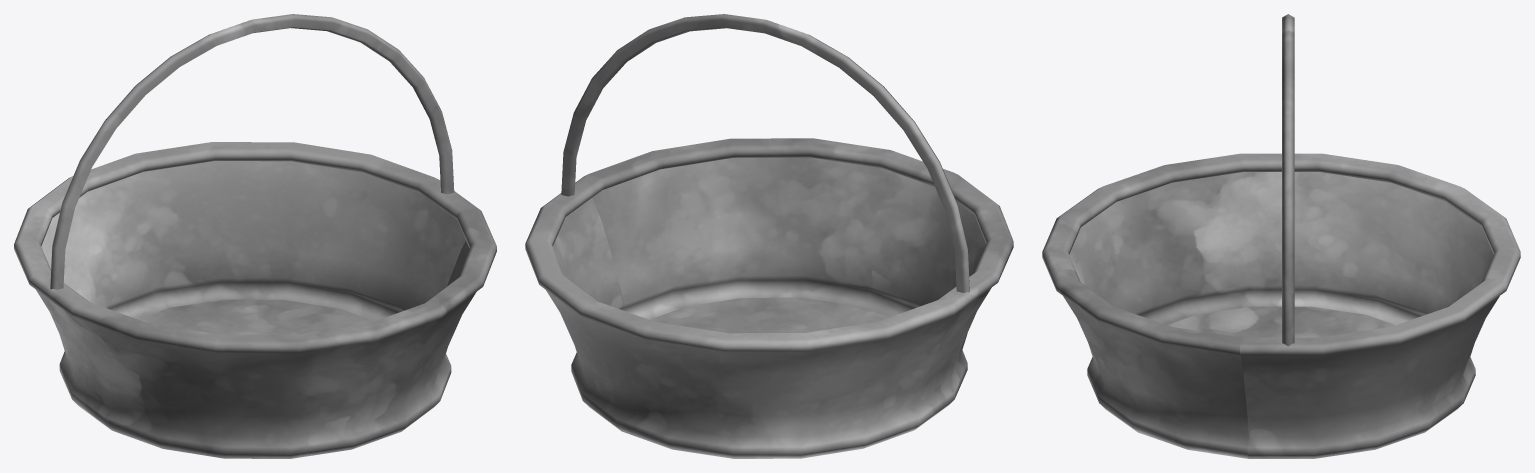
File: SM_WickerBasket_03a.fbx
The picture shows the model from 3 angles, left to right: view 1: azimuth 30°, elevation 25°; view 2: azimuth 150°, elevation 25°; view 3: azimuth 270°, elevation 25°; orthographic projection. The views are drawn at different scales.
Visible parts, largest first — view 1: SM_WickerBasket_03a_LOD0; view 2: SM_WickerBasket_03a_LOD0; view 3: SM_WickerBasket_03a_LOD0.
Part boxes in pixels (x1,y1,x2,y2): SM_WickerBasket_03a_LOD0: (14,14,496,458); SM_WickerBasket_03a_LOD0: (525,14,1013,458); SM_WickerBasket_03a_LOD0: (1042,14,1520,458).
Size of the model in its own units: 53.89 by 56.02 by 44.91.
